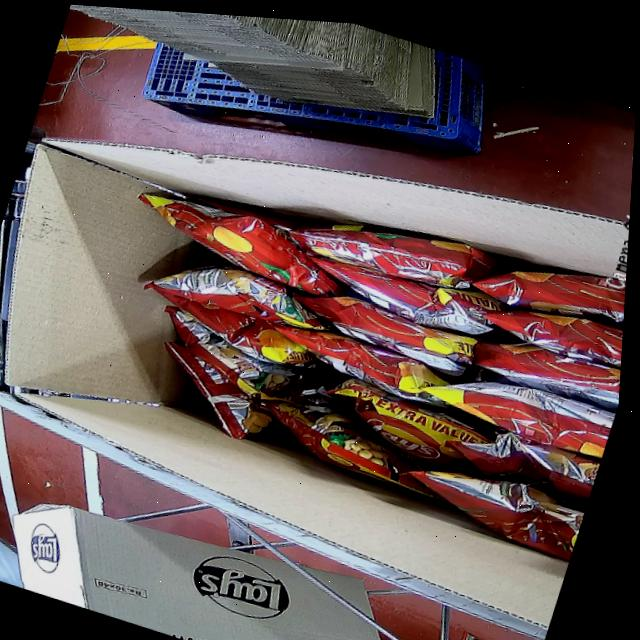MASALA: (67, 126, 633, 564)
